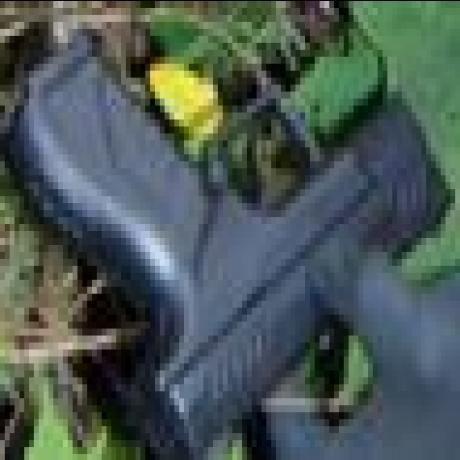weapon: (7, 38, 456, 454)
